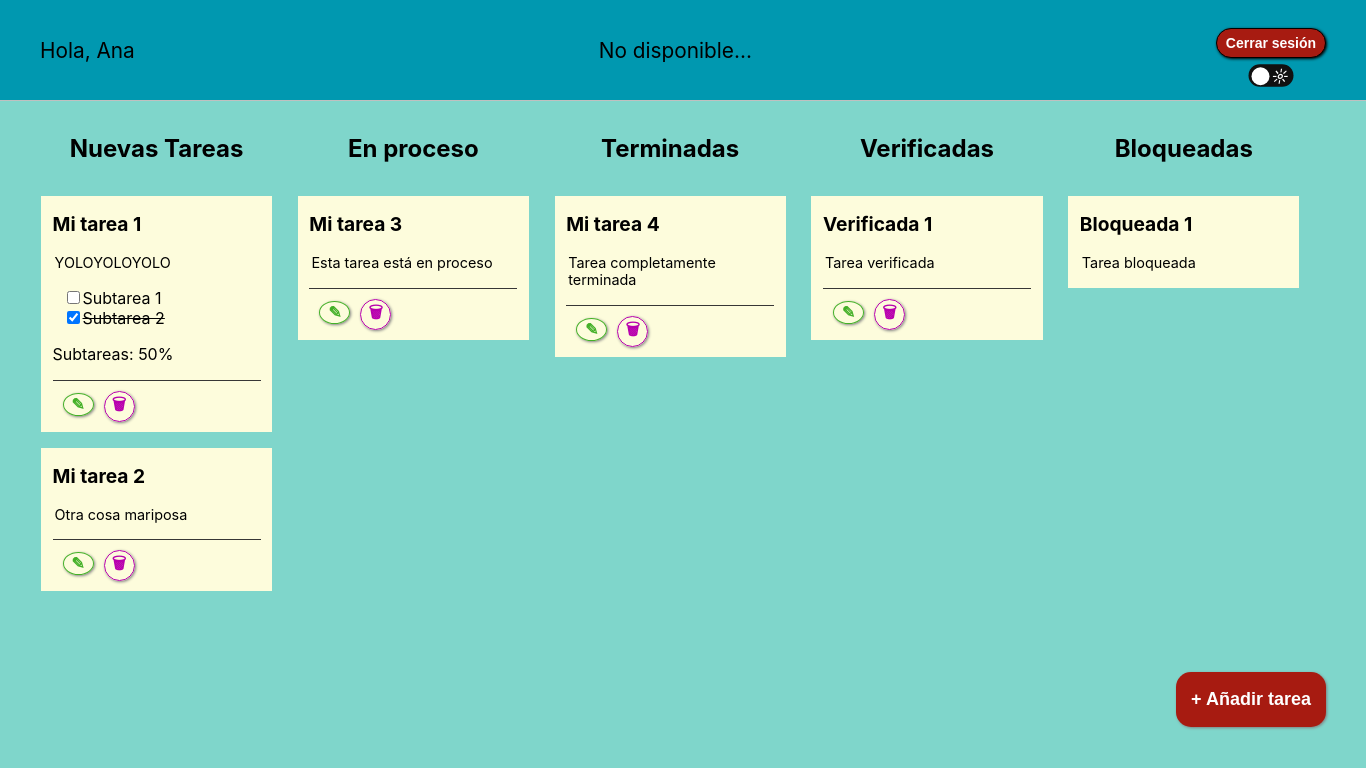
Test: Task creation › new task without required fields
Click the button with test id "btnNuevaTarea" at (1251, 700), box [1176,672,1326,727]
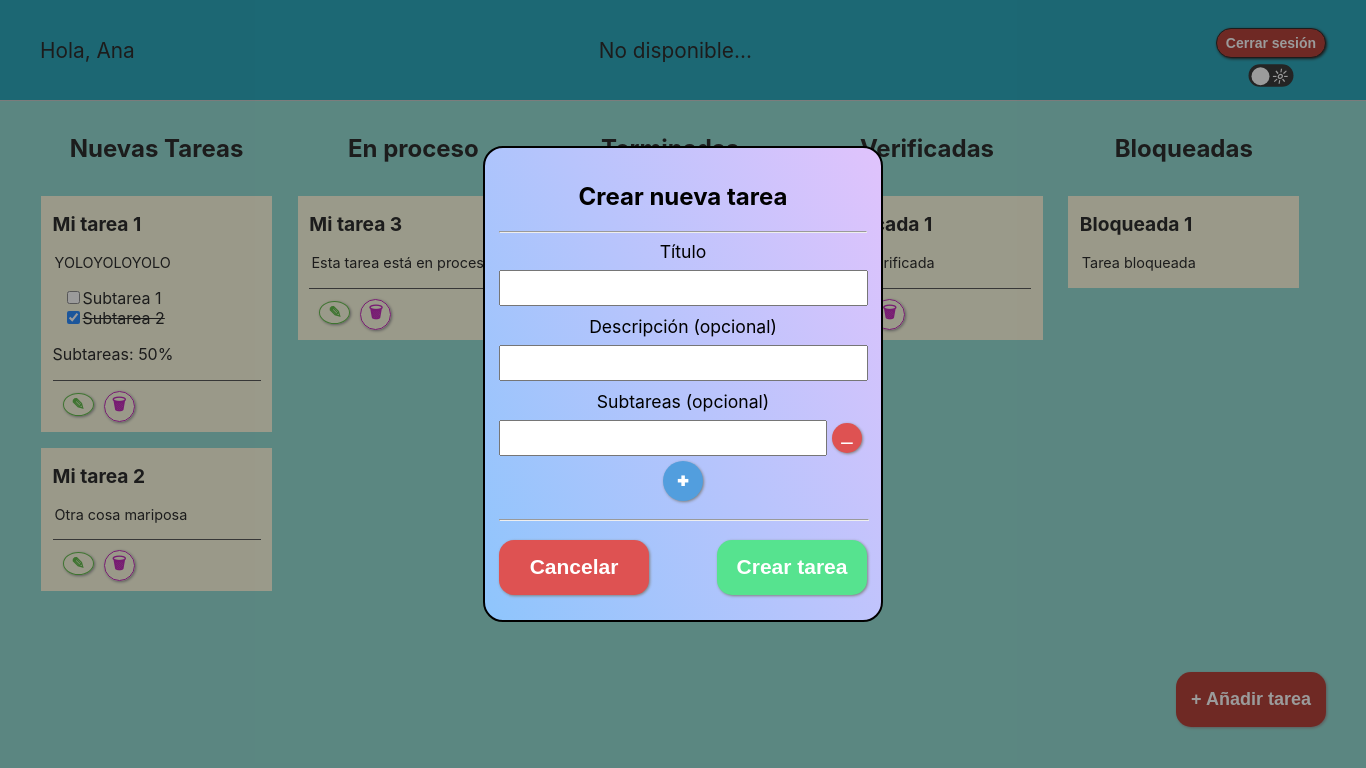
Click the button with test id "btn-create" at (792, 568), box [717,540,867,595]
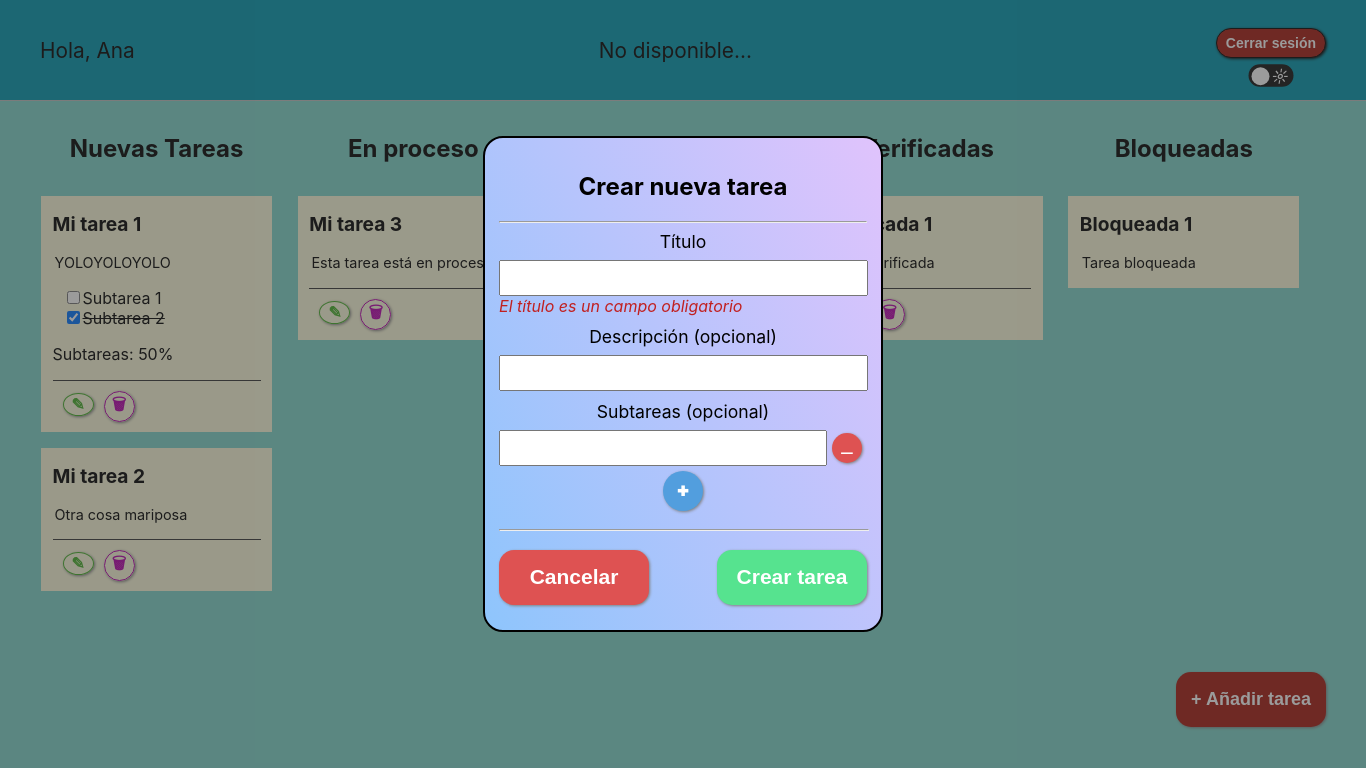
Expected: the text "El título es un campo obligatorio" is shown, [499,296,742,316]
